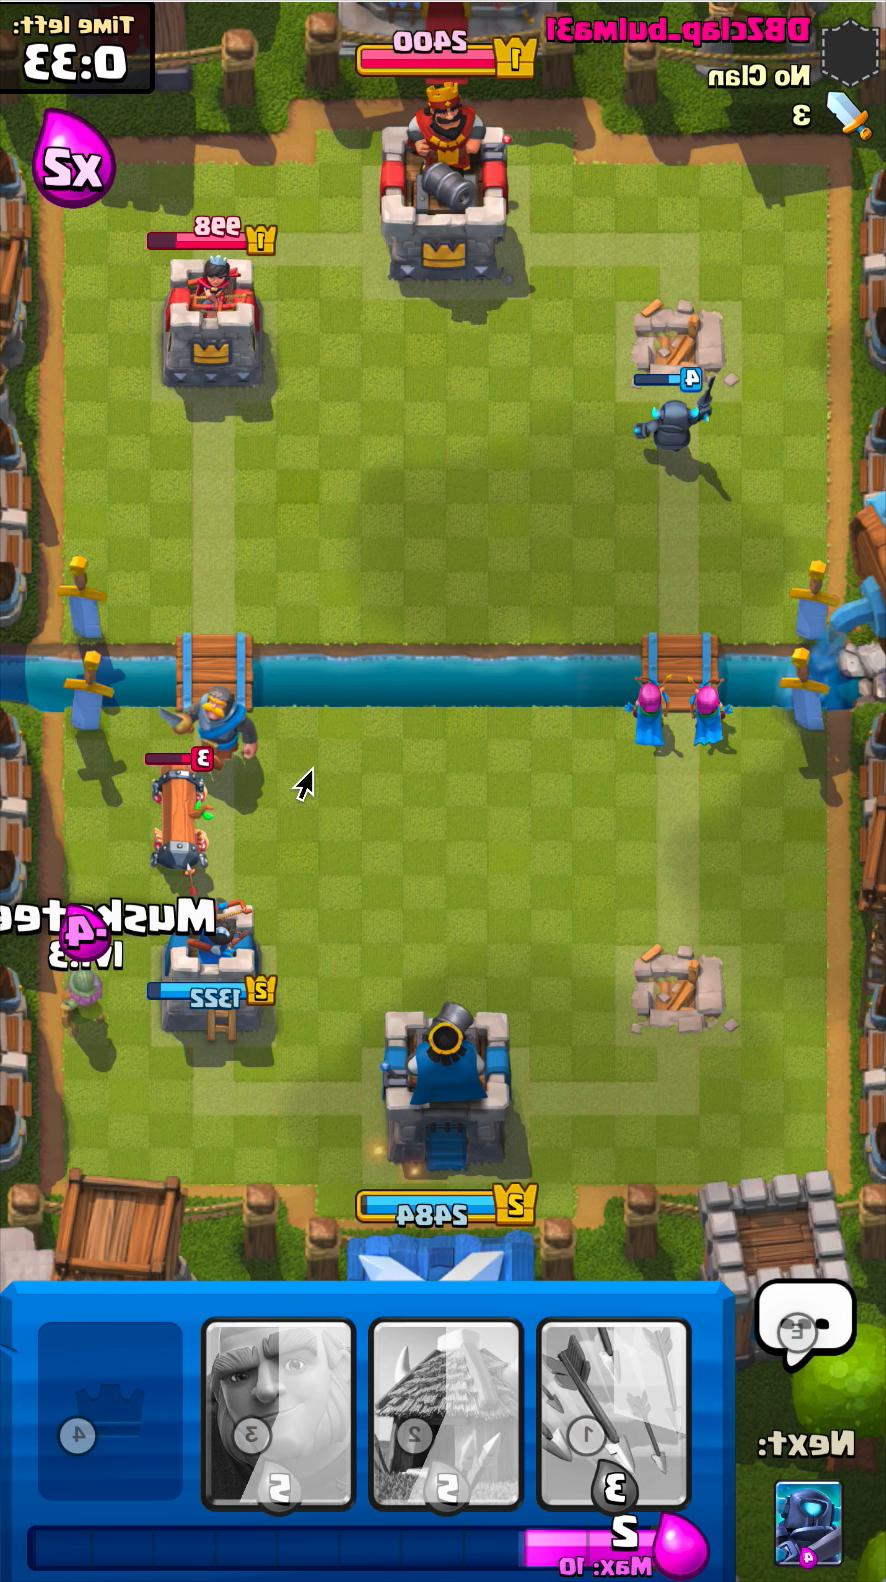archere: (616, 673, 682, 752), (677, 670, 733, 756)
chevalier: (170, 677, 271, 770)
mini_PEKKA: (628, 378, 726, 460)
mousquetaire: (48, 957, 112, 1052)
